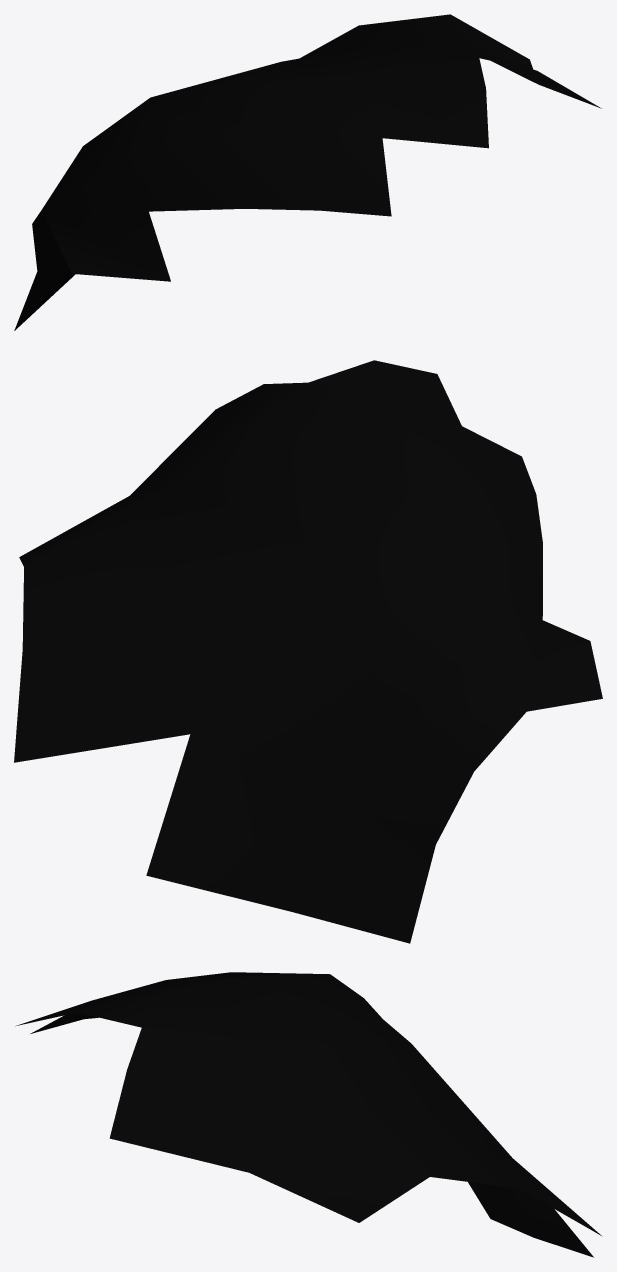
Rendered from HTOWN01_TREESHADOWS09.fbx.
3 views of the same model, one above another, from view 1: azimuth 30°, elevation 25°; view 2: azimuth 150°, elevation 25°; view 3: azimuth 270°, elevation 25° (orthographic). The views are drawn at different scales.
Parts seen in each view (by area): view 1: HTOWN01_TREESHADOWS09; view 2: HTOWN01_TREESHADOWS09; view 3: HTOWN01_TREESHADOWS09.
Boxes of the visible parts, x1=… form: HTOWN01_TREESHADOWS09: x1=14, y1=14, x2=601, y2=330; HTOWN01_TREESHADOWS09: x1=14, y1=360, x2=602, y2=943; HTOWN01_TREESHADOWS09: x1=15, y1=972, x2=602, y2=1257.
Size of the model in its own units: 207915 by 132853 by 218411.
1 material, 1 textured.
